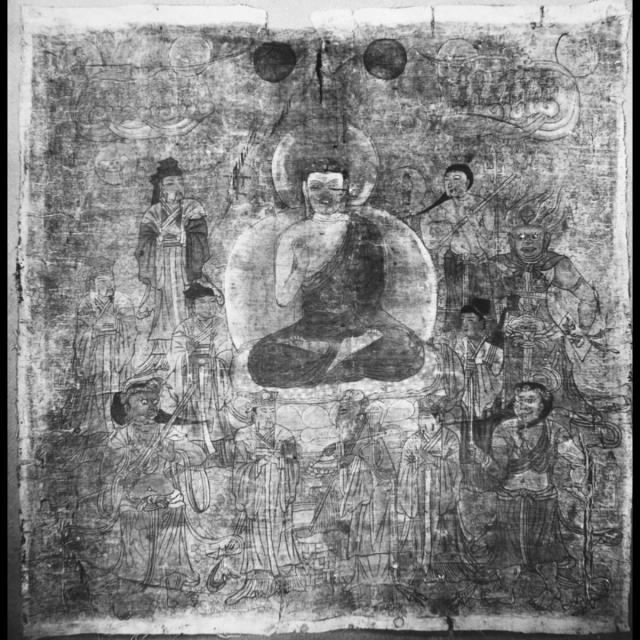buddha-sitting: (249, 118, 424, 388)
